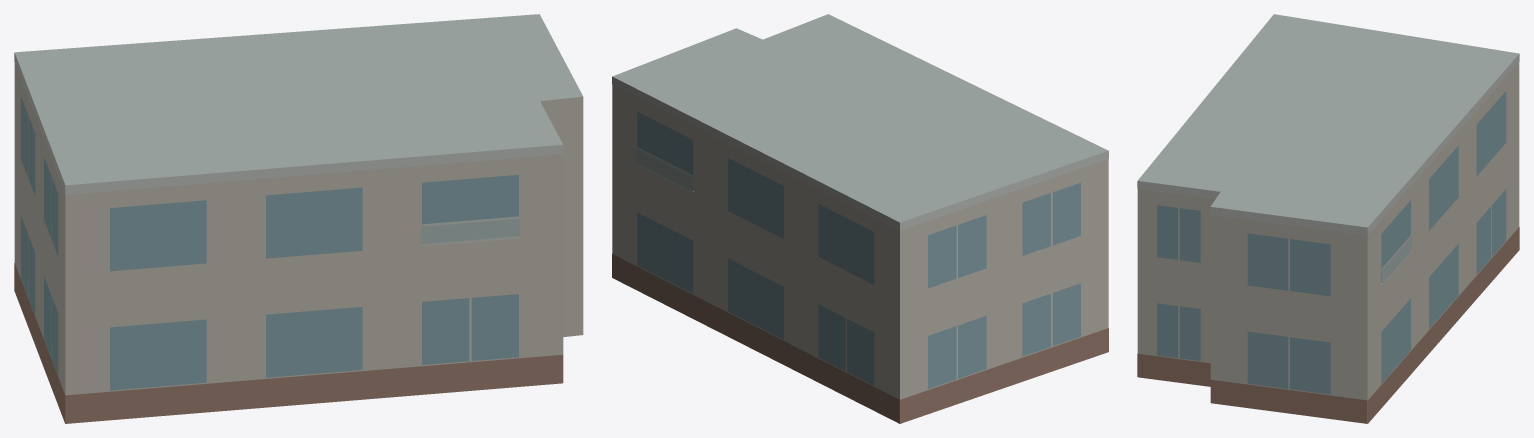
File: survey-upis-32769355.glb
The picture shows the model from 3 angles, left to right: view 1: azimuth 30°, elevation 25°; view 2: azimuth 150°, elevation 25°; view 3: azimuth 270°, elevation 25°; orthographic projection. The views are drawn at different scales.
Visible parts, largest first — view 1: survey-upis-32769355.tmp; view 2: survey-upis-32769355.tmp; view 3: survey-upis-32769355.tmp.
Part boxes in pixels (box(x1,y1,x2,y2)): survey-upis-32769355.tmp: box(14, 14, 583, 423); survey-upis-32769355.tmp: box(612, 14, 1108, 423); survey-upis-32769355.tmp: box(1137, 14, 1519, 423).
Bounding box in the file's own units: 14.23 × 6.1 × 10.77.
